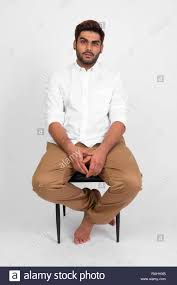sitting: (28, 18, 147, 257)
